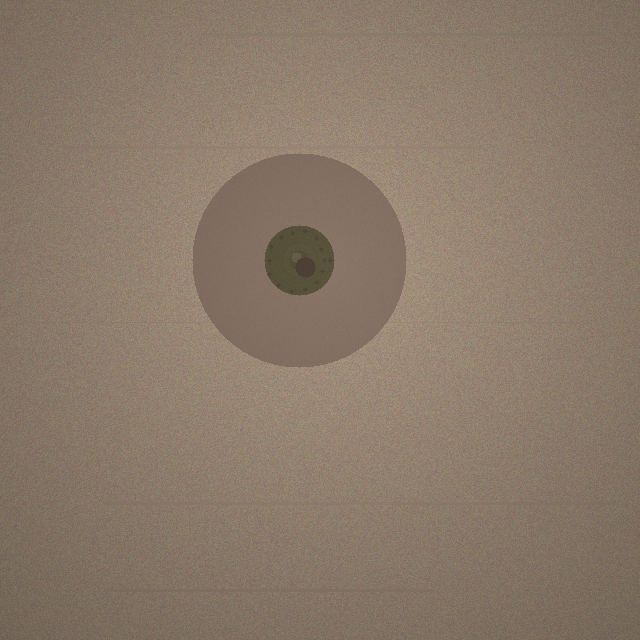cold_weld: (192, 153, 406, 367)
